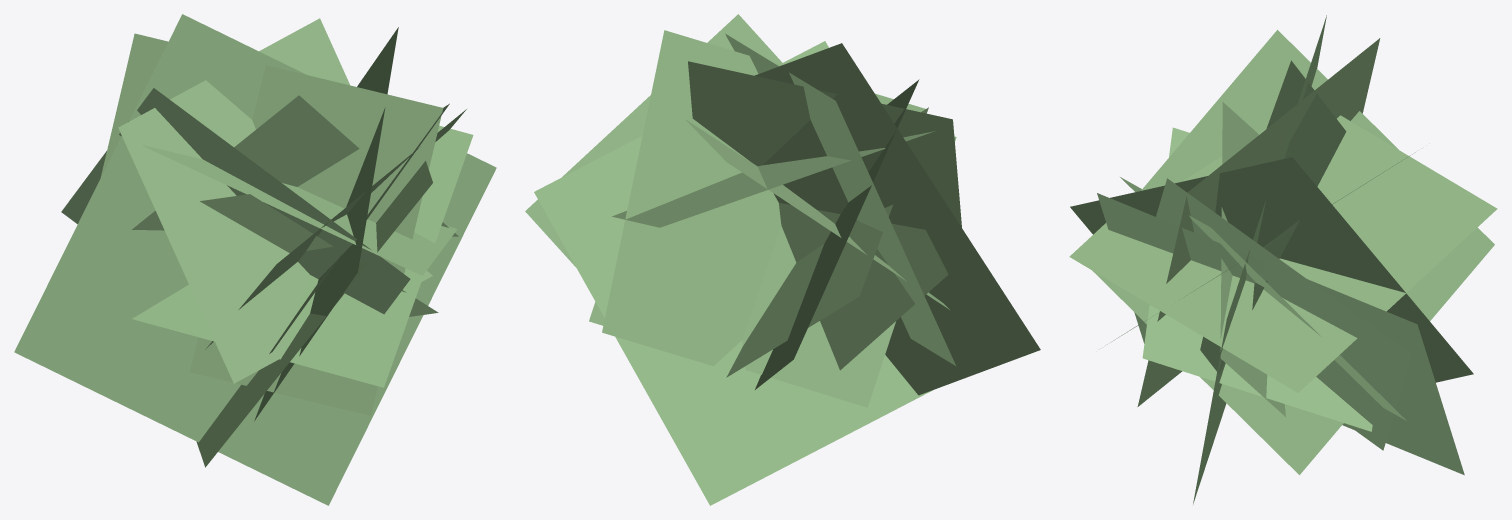
Rendered from touffe_champetre.glb.
3 views of the same model, side by side, from view 1: azimuth 30°, elevation 25°; view 2: azimuth 150°, elevation 25°; view 3: azimuth 270°, elevation 25° (orthographic).
Parts seen in each view (by area): view 1: touffe_champetre; view 2: touffe_champetre; view 3: touffe_champetre.
Part boxes in pixels (x1,y1,x2,y2): touffe_champetre: [14, 14, 496, 505]; touffe_champetre: [525, 14, 1040, 505]; touffe_champetre: [1069, 15, 1497, 504].
Bounding box in the file's own units: 0.9735 × 0.9204 × 0.7865.
